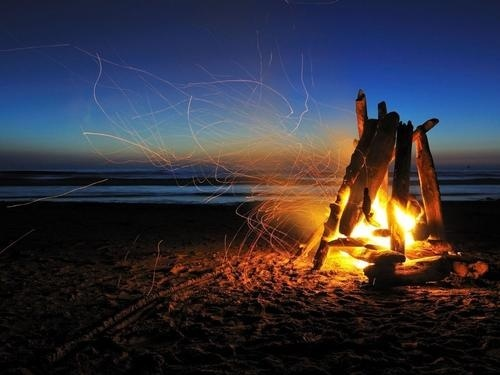fire: (325, 176, 423, 258)
